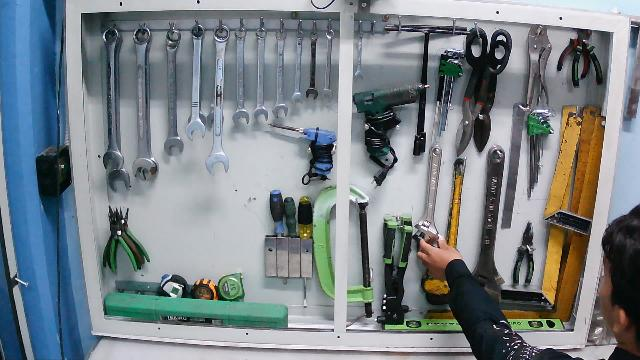kunci_inggris: (413, 141, 444, 253)
